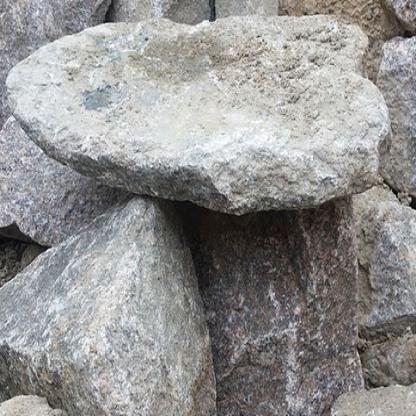Igneous_Granite: (4, 21, 398, 207), (0, 185, 231, 415)
